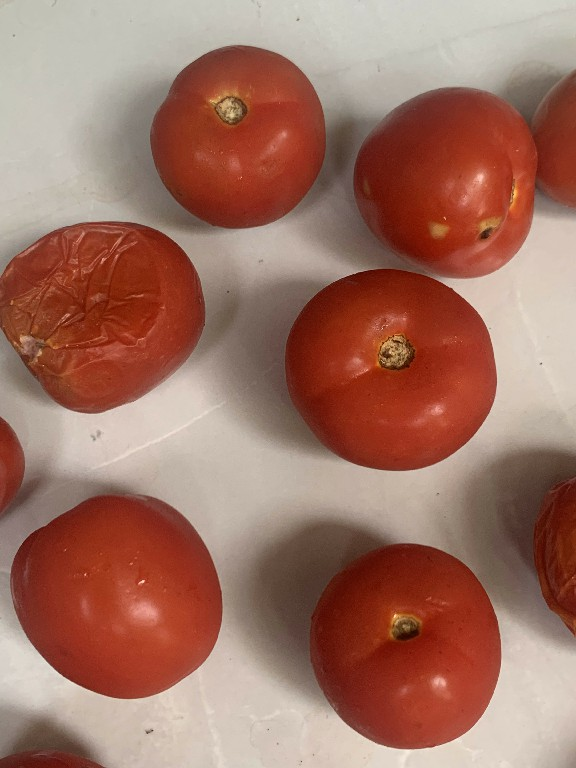NG: (0, 211, 218, 429), (353, 76, 543, 290)
OK: (0, 484, 236, 714), (271, 258, 502, 492), (294, 532, 504, 756), (141, 39, 328, 235)
